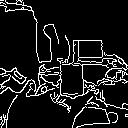cube: (57, 62, 91, 99)
